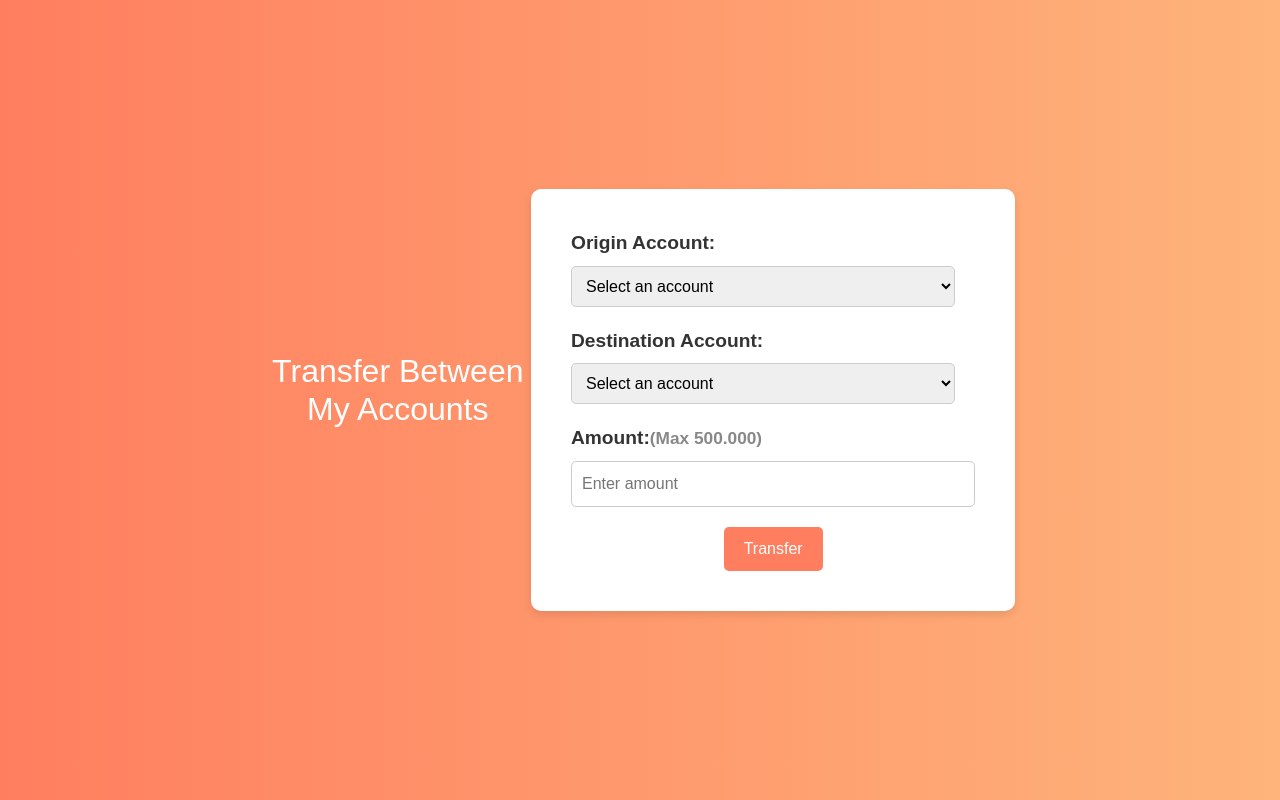
Scenario: TransferBetweenMyAccounts Component › shows error message when amount is not a number
Type "abc" into the field with placeholder "Enter amount".
click(773, 484); type("abc")  # box [571,461,975,507]
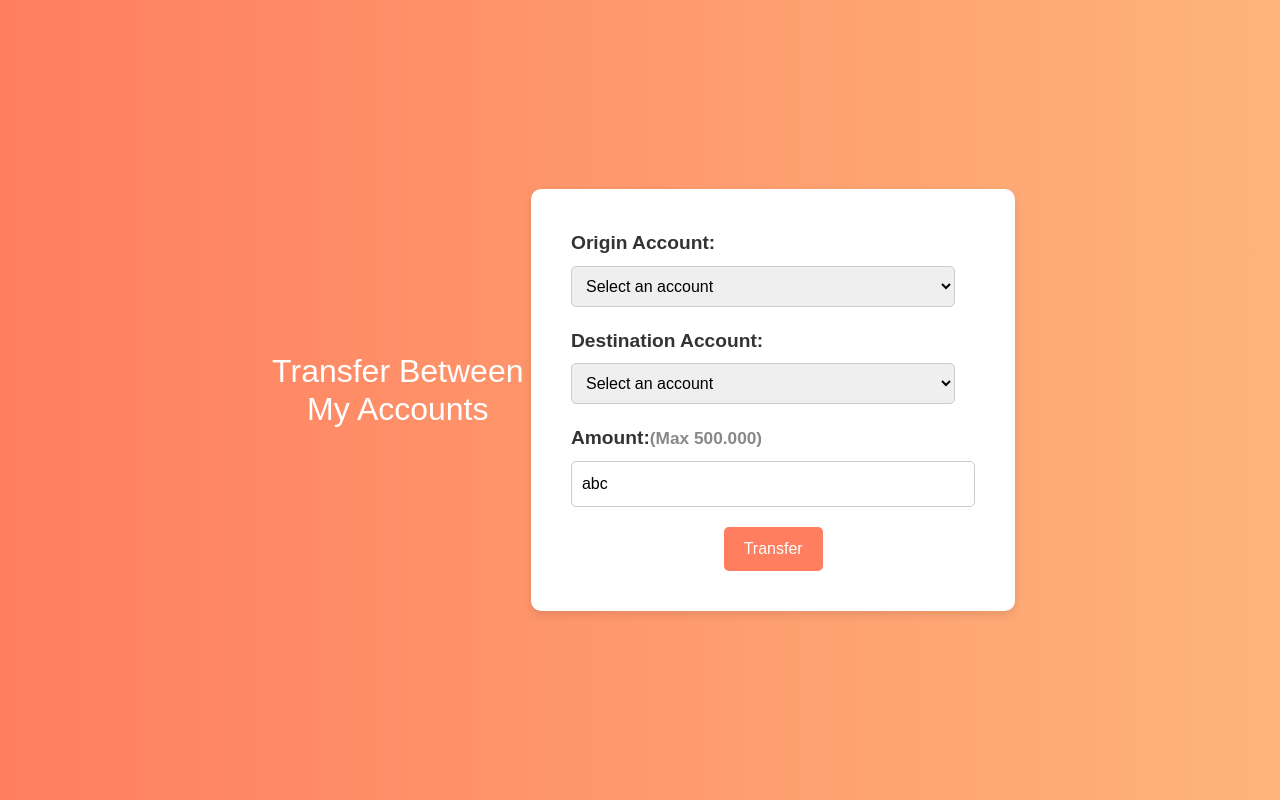
Click the button "Transfer".
click(773, 549)  # box [724,527,823,571]
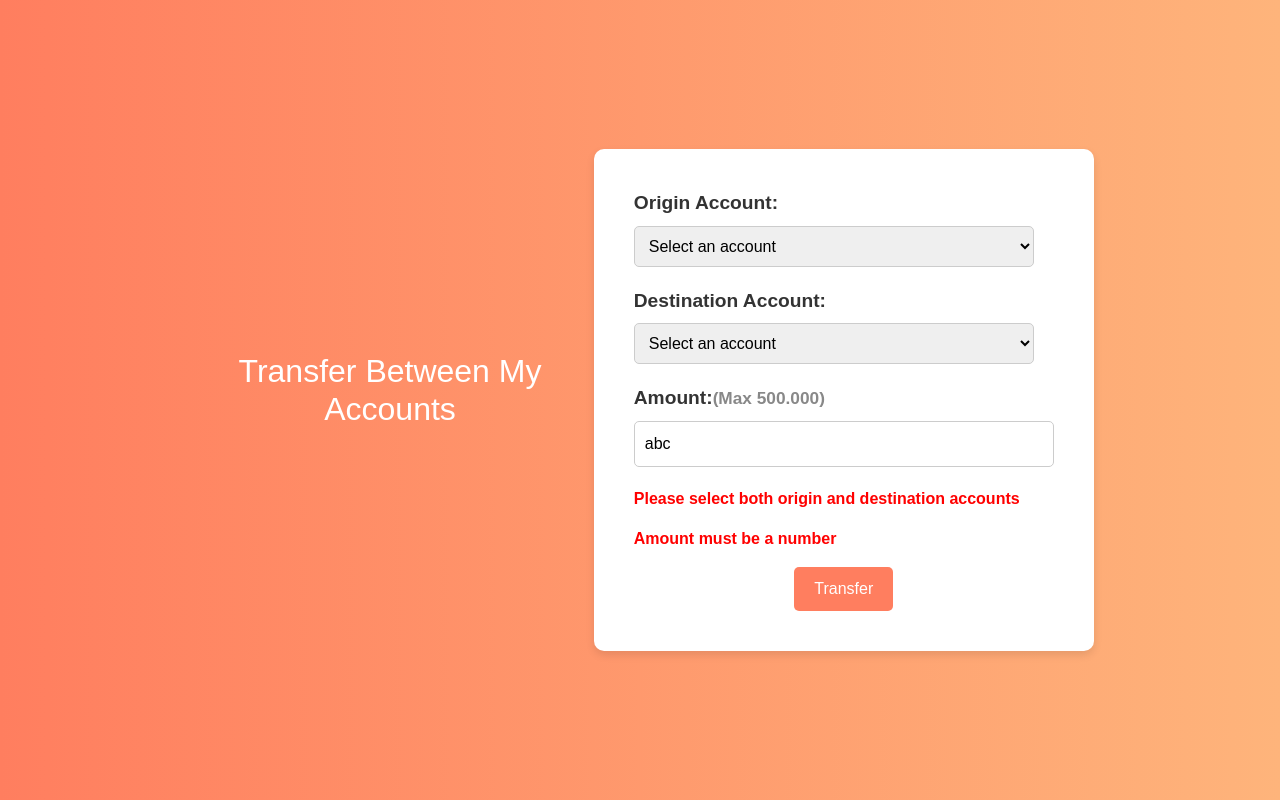
Result: the element with test id "error-messages" shows "Amount must be a number" at [634,530,836,547]
